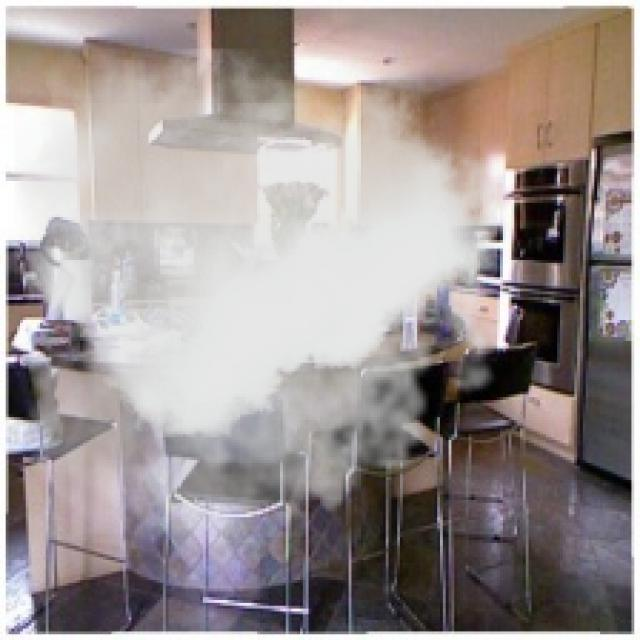Smoke: (14, 48, 529, 574)
